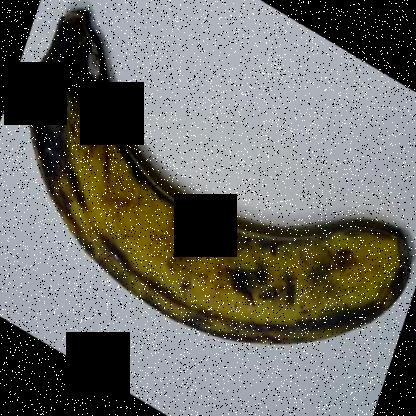overripe: (20, 1, 415, 368)
rotten: (25, 4, 135, 185)
